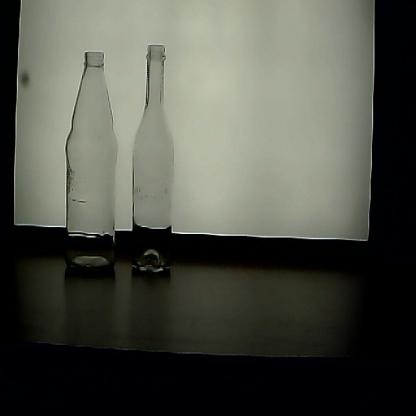Can: (60, 49, 122, 291), (130, 43, 178, 289)
